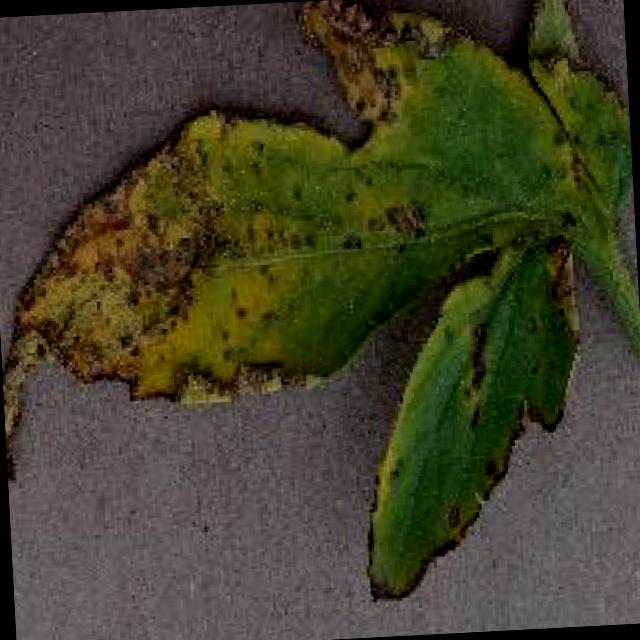bacterial spot: (2, 0, 640, 603)
